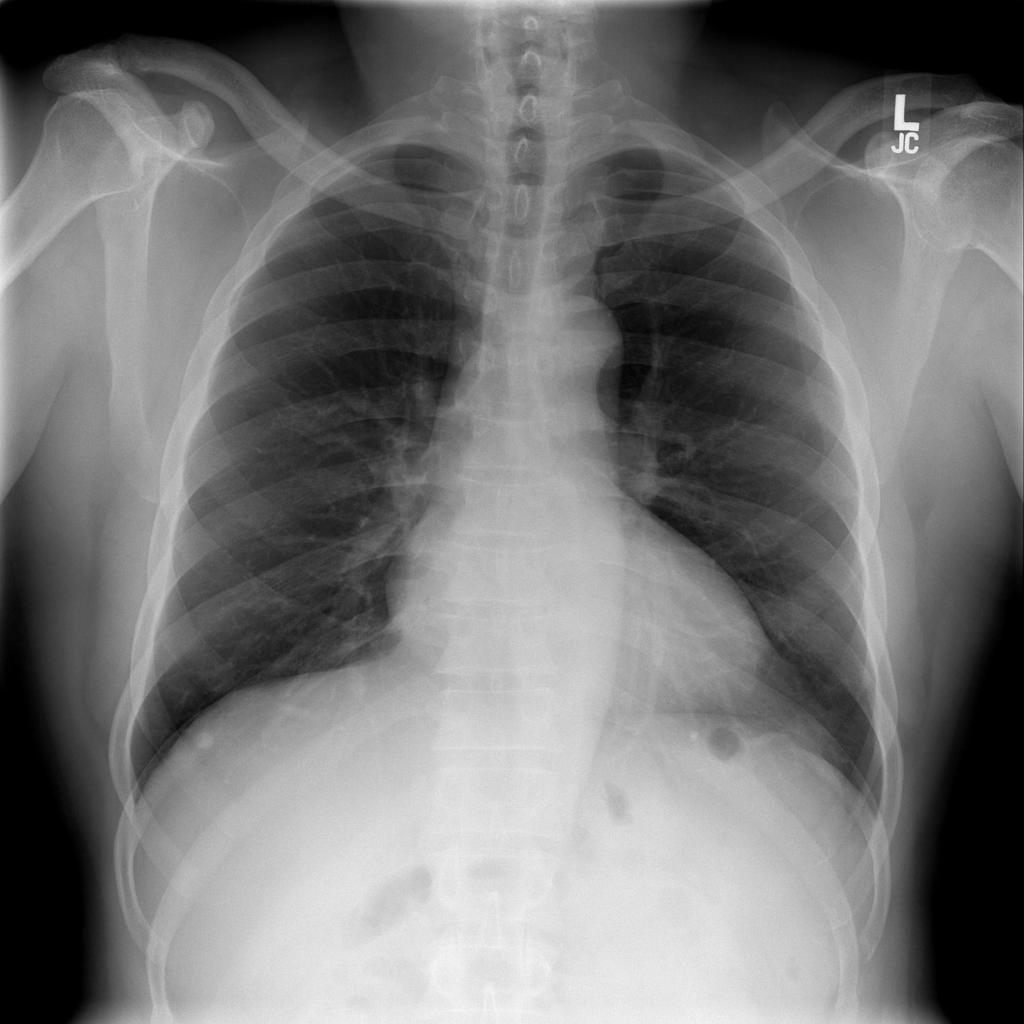nodule: (163, 705, 238, 778)
